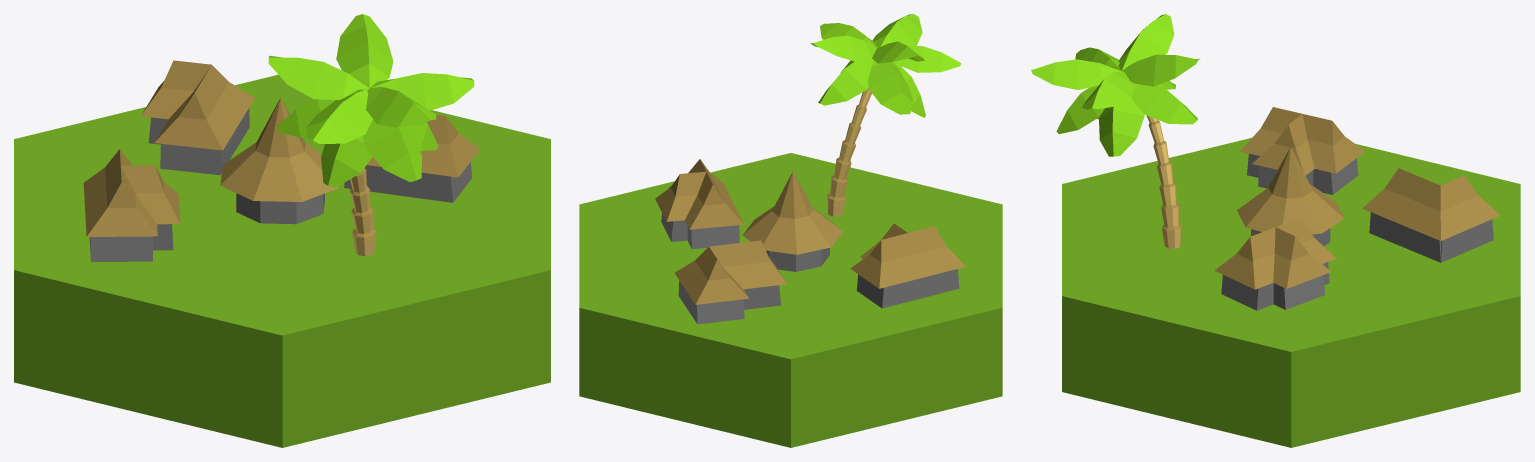
File: Casas_Palmeras_4.fbx
The picture shows the model from 3 angles, left to right: view 1: azimuth 30°, elevation 25°; view 2: azimuth 150°, elevation 25°; view 3: azimuth 270°, elevation 25°; orthographic projection. The views are drawn at different scales.
Parts seen in each view (by area): view 1: Casas_Palmeras_4; view 2: Casas_Palmeras_4; view 3: Casas_Palmeras_4.
Part boxes in pixels (box(x1,y1,x2,y2)): Casas_Palmeras_4: box(14, 14, 550, 447); Casas_Palmeras_4: box(579, 14, 1002, 447); Casas_Palmeras_4: box(1031, 14, 1520, 447).
Size of the model in its own units: 200 by 120 by 185.
